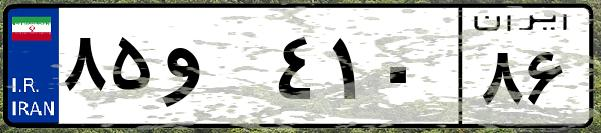0: (385, 28, 445, 110)
1: (330, 28, 385, 110)
4: (270, 28, 330, 110)
5: (110, 28, 158, 98)
6: (525, 38, 570, 115)
8: (57, 26, 110, 100), (475, 38, 525, 113)
و: (158, 20, 270, 120)
